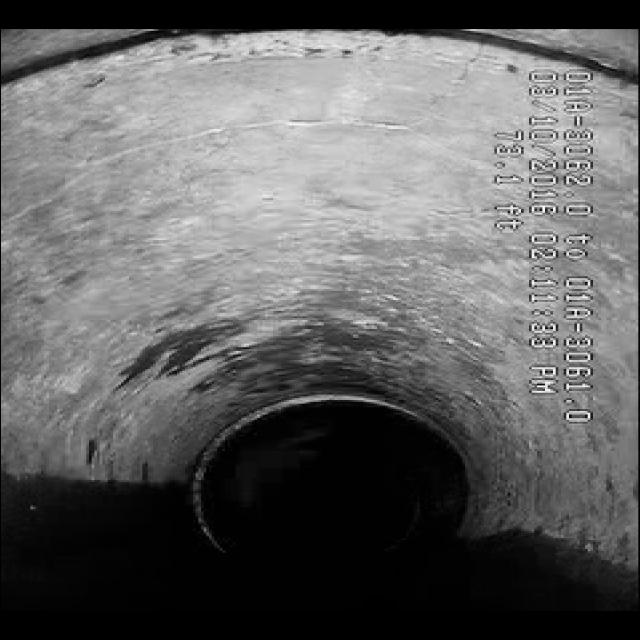Crack: (74, 82, 458, 192)
